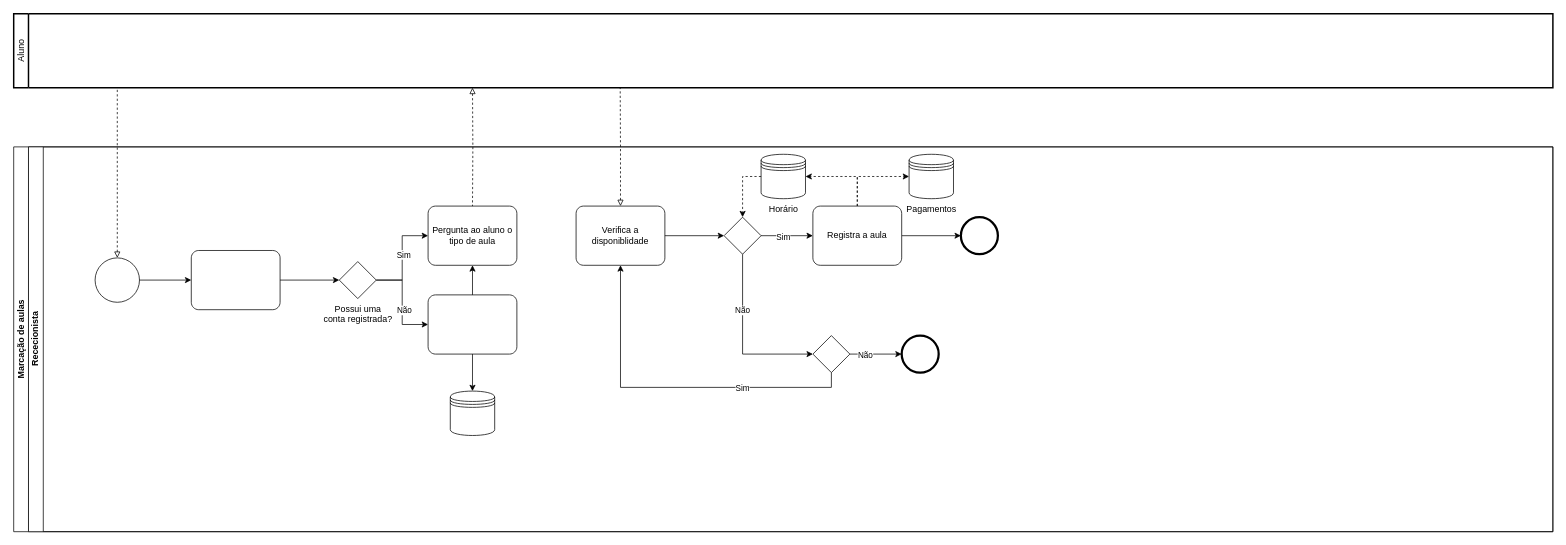
This 1566x545 diagram has some shape labels left out. Each missing label, with the centre of its shape:
"Aluno requisita uma marcação de um aula" belongs at [235,280].
"Contas" belongs at [472,412].
"Existe disponibilidade?" belongs at [742,235].
"Pretende verificar outra disponibilidade?" belongs at [831,354].
"Registra uma nova conta" belongs at [472,324].
